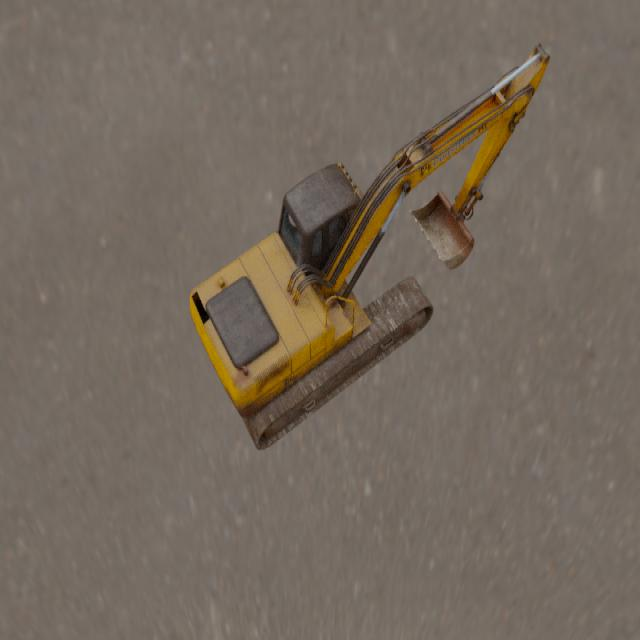excavator: (189, 41, 550, 451)
